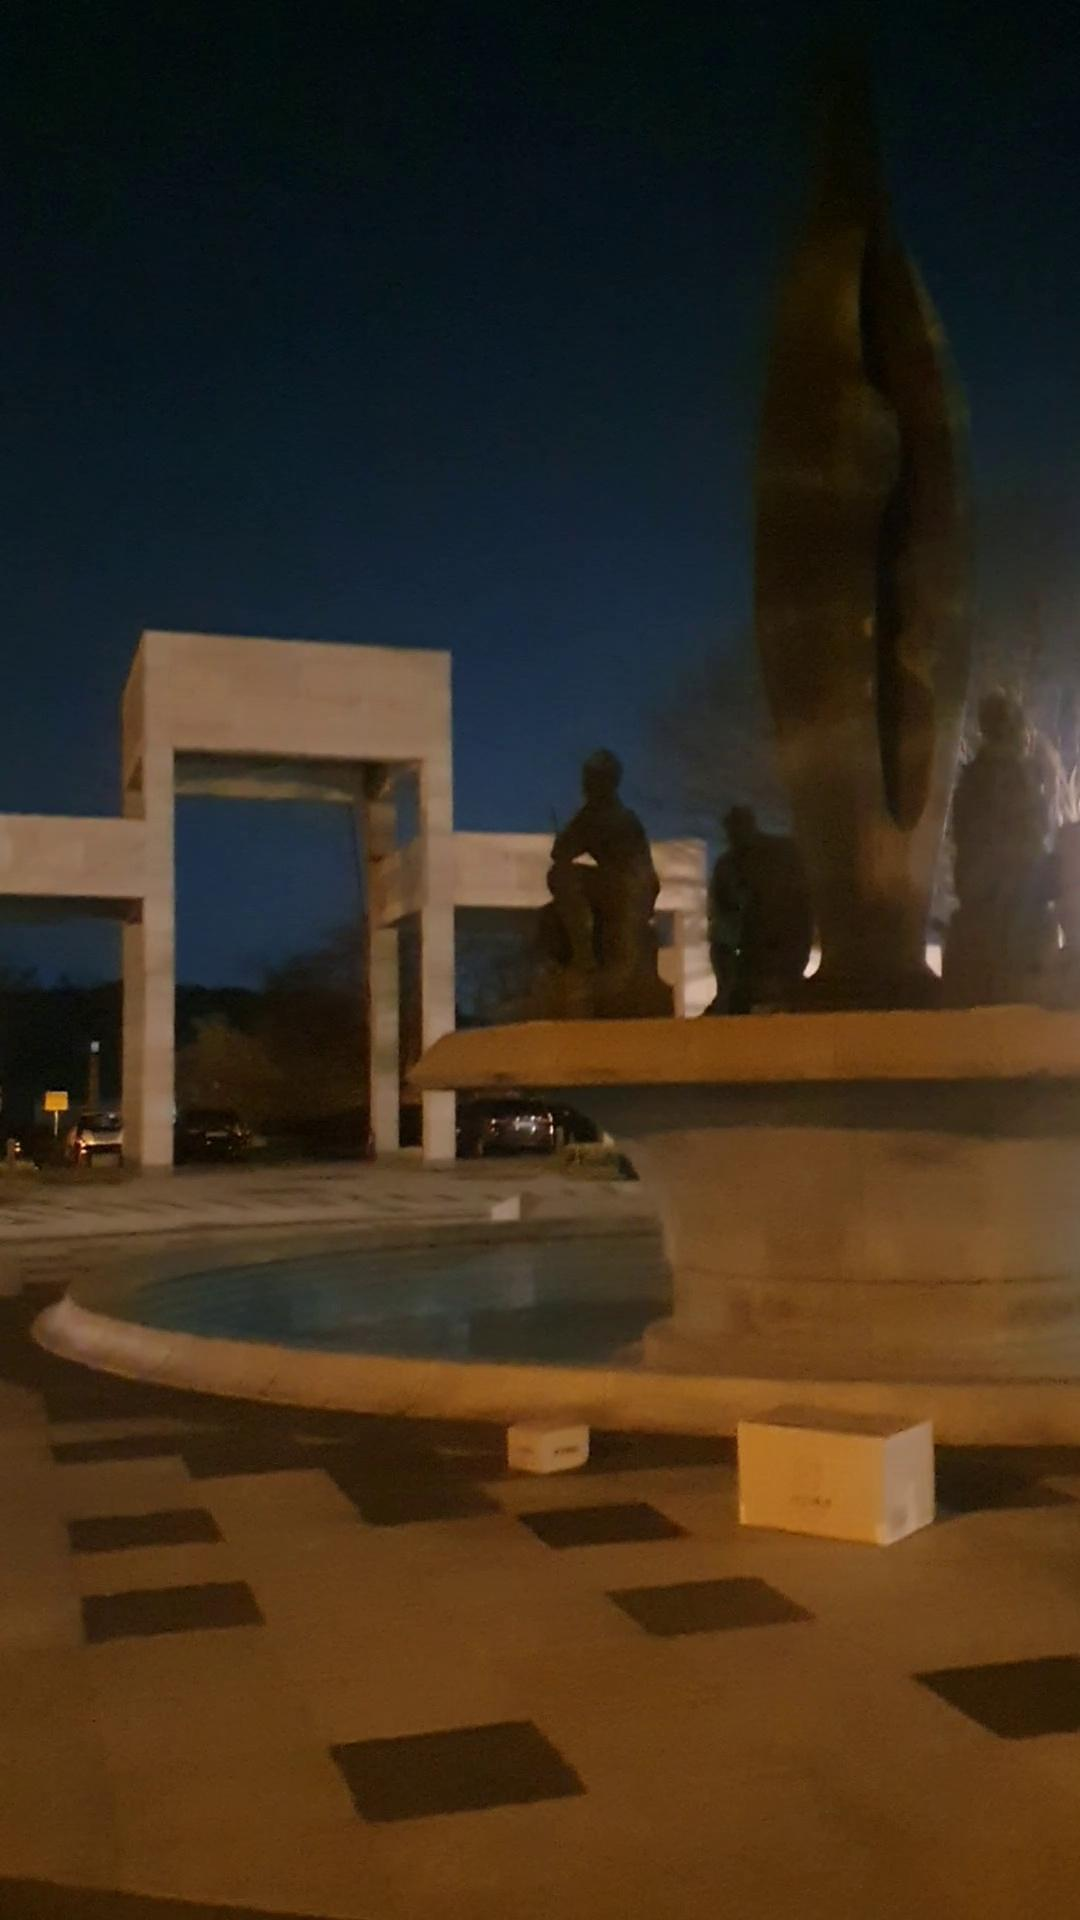Box: (683, 1403, 1011, 1565), (487, 1398, 633, 1515)
